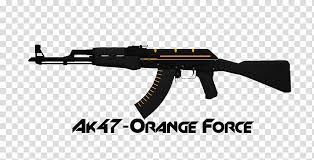gun: (25, 43, 292, 120)
